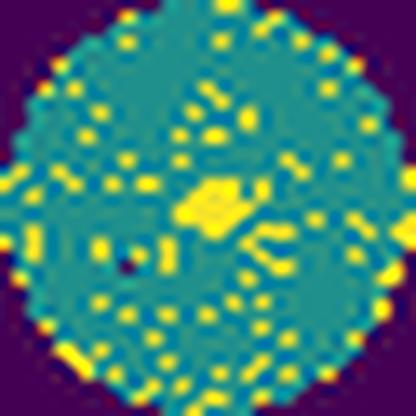Center: (172, 177, 278, 240)
